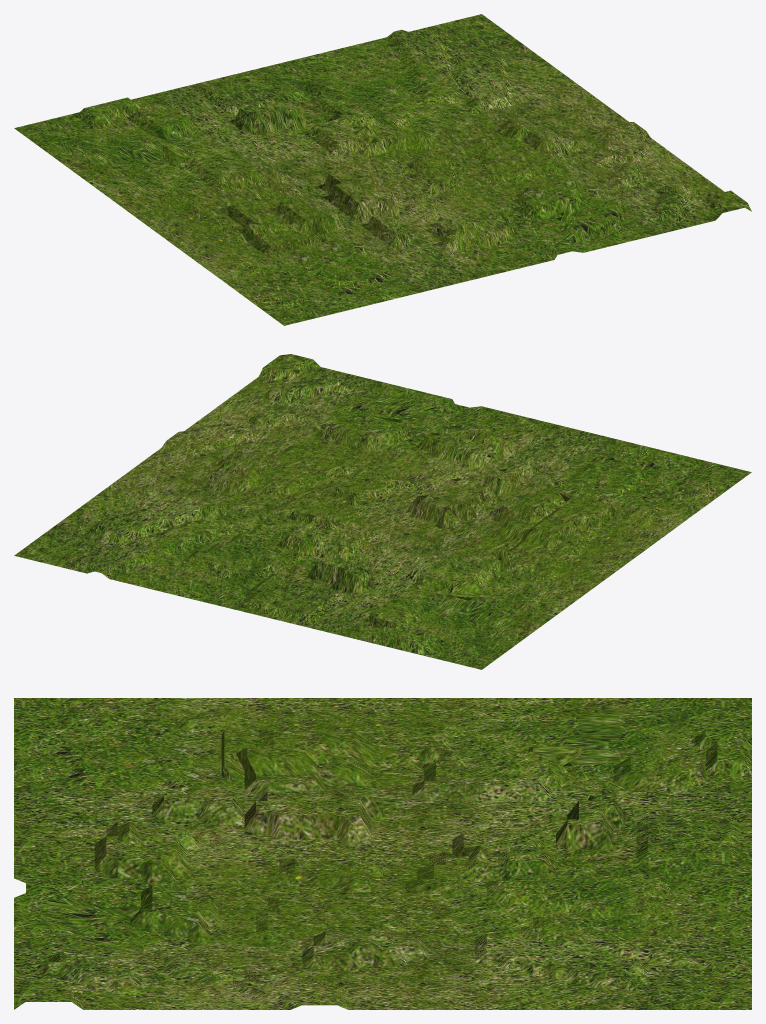
The model's file is Grass 1.fbx.
3 renders of one model, top to bottom at view 1: azimuth 30°, elevation 25°; view 2: azimuth 150°, elevation 25°; view 3: azimuth 270°, elevation 25°, orthographic. The views are drawn at different scales.
Visible parts, largest first — view 1: Plane; view 2: Plane; view 3: Plane.
Part boxes in pixels (<box>): Plane: <box>14,14,751,325</box>; Plane: <box>14,354,751,669</box>; Plane: <box>14,698,751,1009</box>.
Bounding box in the file's own units: 43.5 × 1.44 × 43.5.
Materials: 1 (1 with a texture image).
